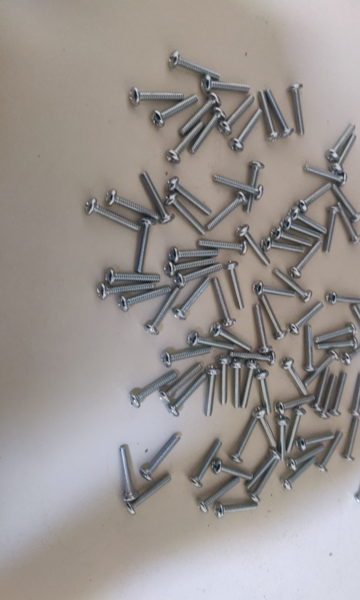longscrew: (141, 432, 189, 480), (165, 175, 217, 216), (178, 88, 219, 137), (163, 117, 204, 166), (140, 170, 177, 224), (165, 196, 212, 238), (228, 414, 265, 465), (103, 190, 165, 220), (128, 369, 178, 406), (174, 273, 214, 319), (207, 187, 246, 234), (84, 200, 143, 231), (167, 46, 221, 79), (127, 475, 171, 514), (197, 474, 242, 512), (144, 287, 178, 337), (190, 439, 225, 487), (171, 370, 206, 416), (154, 90, 195, 129), (163, 361, 202, 402), (192, 105, 223, 156), (133, 217, 160, 275), (118, 283, 169, 313), (249, 460, 285, 501), (243, 163, 270, 217), (237, 226, 272, 267), (222, 90, 253, 135), (232, 109, 263, 154), (247, 452, 281, 491), (282, 355, 314, 396), (255, 90, 281, 140), (210, 323, 253, 353), (129, 83, 185, 106), (280, 458, 319, 491), (288, 240, 320, 280), (175, 265, 224, 291), (296, 182, 333, 216), (274, 269, 312, 302), (292, 298, 325, 336), (268, 90, 295, 136), (320, 430, 351, 470), (210, 176, 266, 198), (287, 407, 312, 455), (305, 351, 340, 385), (300, 164, 351, 187), (102, 266, 163, 285), (96, 280, 157, 299), (120, 443, 139, 504), (214, 278, 237, 328), (326, 124, 355, 163), (329, 135, 358, 174), (324, 205, 346, 256), (160, 344, 212, 365), (262, 296, 287, 338), (203, 367, 223, 419), (320, 375, 343, 420), (262, 234, 305, 258), (242, 363, 263, 412), (333, 184, 360, 222), (288, 443, 326, 470), (212, 459, 258, 481), (254, 408, 278, 450), (226, 262, 246, 312), (283, 213, 320, 240), (330, 372, 353, 415), (291, 209, 327, 236), (273, 222, 309, 249), (302, 326, 321, 377), (337, 202, 360, 244), (186, 332, 239, 350), (199, 76, 249, 95), (314, 366, 334, 413), (167, 258, 222, 275), (275, 394, 320, 414), (255, 301, 270, 359), (324, 285, 360, 309), (251, 280, 298, 298), (291, 85, 306, 138), (215, 501, 259, 519), (317, 322, 356, 342), (230, 349, 277, 365), (343, 417, 360, 461), (297, 432, 334, 452), (220, 357, 233, 410), (279, 418, 293, 465), (168, 248, 219, 260), (232, 362, 245, 409), (317, 337, 357, 352), (197, 241, 248, 252), (261, 370, 272, 415), (344, 338, 360, 366), (351, 371, 360, 419), (353, 305, 360, 348), (355, 460, 360, 507)
